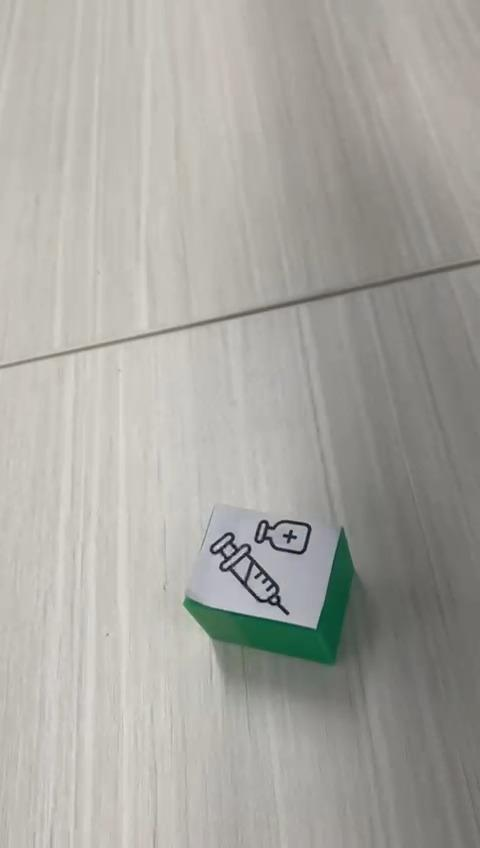antiseptic cream: (181, 501, 355, 664)
